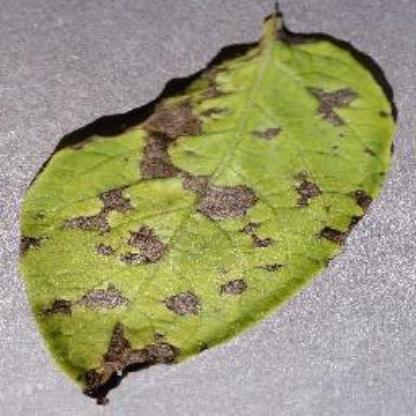Early-Blight: (19, 4, 398, 404)
